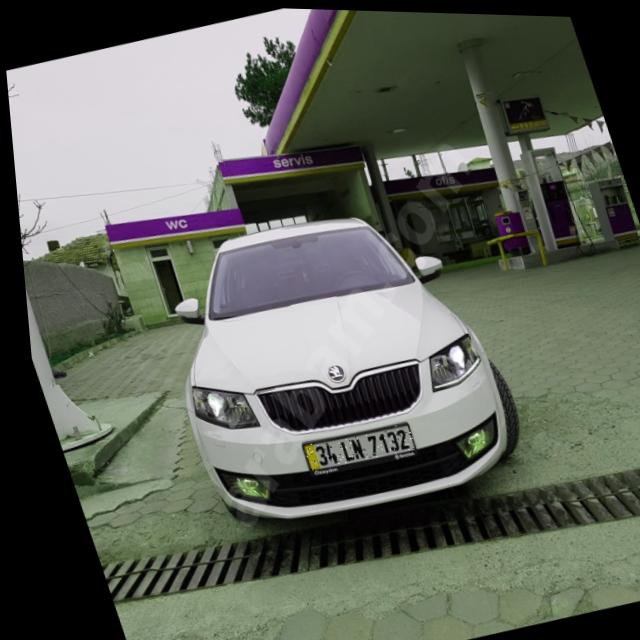license_plate: (292, 417, 409, 472)
